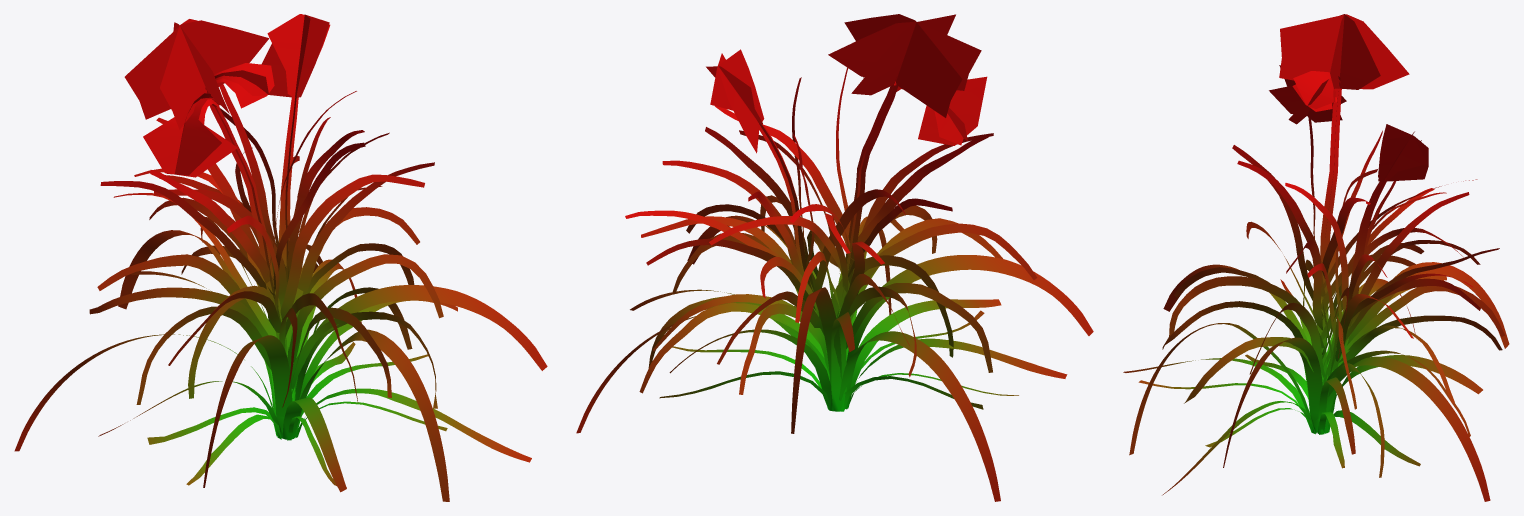
The model's file is Three Cornered Garlic_LOD0_Var1_tjfhbciia.fbx.
3 views of the same model, side by side, from view 1: azimuth 30°, elevation 25°; view 2: azimuth 150°, elevation 25°; view 3: azimuth 270°, elevation 25° (orthographic). The views are drawn at different scales.
Visible parts, largest first — view 1: _5cc5_Var1_LOD0; view 2: _5cc5_Var1_LOD0; view 3: _5cc5_Var1_LOD0.
Part boxes in pixels (bbox=[...]): _5cc5_Var1_LOD0: bbox=[14, 14, 547, 501]; _5cc5_Var1_LOD0: bbox=[576, 14, 1093, 501]; _5cc5_Var1_LOD0: bbox=[1123, 14, 1509, 501].
Bounding box in the file's own units: 52.08 × 50.11 × 46.22.
